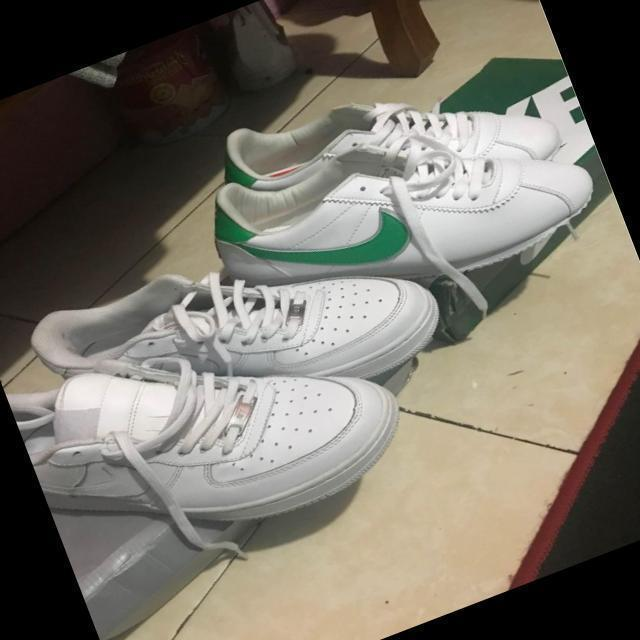nike fake air force: (1, 170, 465, 494), (6, 262, 423, 594)
